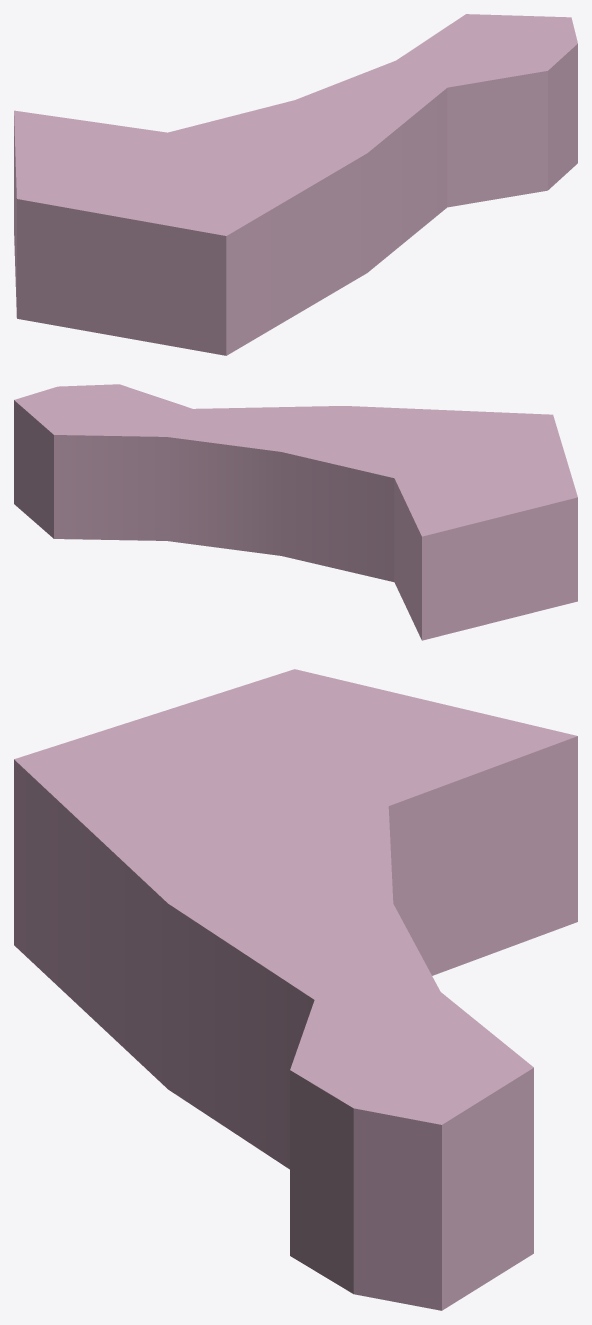
File: taichung.glb
3 views of the same model, one above another, from view 1: azimuth 30°, elevation 25°; view 2: azimuth 150°, elevation 25°; view 3: azimuth 270°, elevation 25° (orthographic). The views are drawn at different scales.
Visible parts, largest first — view 1: map_geo Taichung_geo; view 2: map_geo Taichung_geo; view 3: map_geo Taichung_geo.
Part boxes in pixels (box(x1,y1,x2,y2)): map_geo Taichung_geo: box(14, 14, 577, 355); map_geo Taichung_geo: box(14, 384, 577, 640); map_geo Taichung_geo: box(14, 669, 577, 1310).
Size of the model in its own units: 1.46 by 0.2781 by 0.7645.
1 material, 1 textured.
